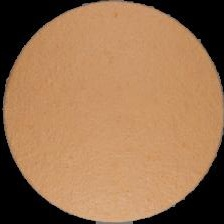35356-847: (0, 0, 224, 224)
